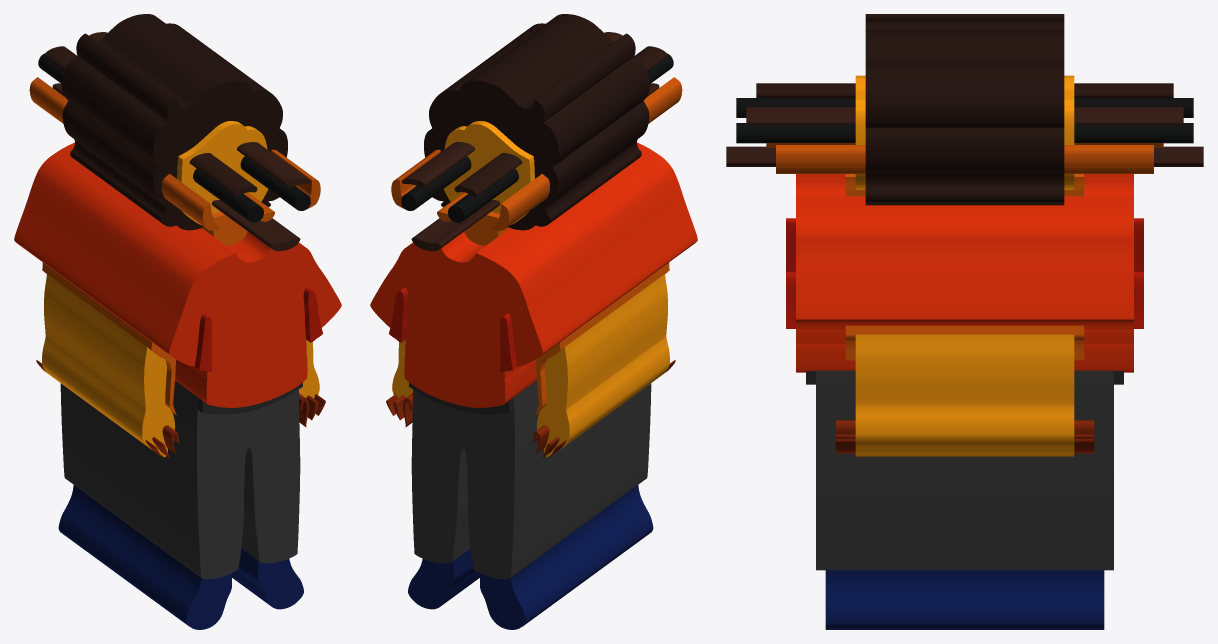
3 renders of one model, left to right at view 1: azimuth 30°, elevation 25°; view 2: azimuth 150°, elevation 25°; view 3: azimuth 270°, elevation 25°, orthographic. The views are drawn at different scales.
Parts seen in each view (by area): view 1: U+1F9CD_layer07_obj00, U+1F9CD_layer05_obj00, U+1F9CD_layer00_obj00, U+1F9CD_layer01_obj00, U+1F9CD_layer04_obj00, U+1F9CD_layer01_obj02, U+1F9CD_layer04_obj01, U+1F9CD_layer09_obj00, U+1F9CD_layer11_obj00, U+1F9CD_layer02_obj00, U+1F9CD_layer14_obj00, U+1F9CD_layer13_obj01 (+8 smaller); view 2: U+1F9CD_layer07_obj00, U+1F9CD_layer05_obj00, U+1F9CD_layer00_obj00, U+1F9CD_layer01_obj00, U+1F9CD_layer04_obj00, U+1F9CD_layer01_obj02, U+1F9CD_layer04_obj01, U+1F9CD_layer09_obj00, U+1F9CD_layer11_obj00, U+1F9CD_layer02_obj00, U+1F9CD_layer14_obj00, U+1F9CD_layer13_obj01 (+8 smaller); view 3: U+1F9CD_layer07_obj00, U+1F9CD_layer05_obj00, U+1F9CD_layer00_obj00, U+1F9CD_layer01_obj01, U+1F9CD_layer04_obj01, U+1F9CD_layer09_obj01, U+1F9CD_layer13_obj00, U+1F9CD_layer12_obj00, U+1F9CD_layer11_obj00, U+1F9CD_layer02_obj01, U+1F9CD_layer13_obj01, U+1F9CD_layer14_obj00 (+4 smaller).
Boxes of the visible parts, box(x1,y1,x2,y2) form: U+1F9CD_layer07_obj00: box(14, 142, 341, 407); U+1F9CD_layer05_obj00: box(60, 380, 300, 579); U+1F9CD_layer00_obj00: box(62, 14, 287, 230); U+1F9CD_layer01_obj00: box(42, 274, 175, 457); U+1F9CD_layer04_obj00: box(58, 485, 231, 629); U+1F9CD_layer01_obj02: box(177, 121, 268, 225); U+1F9CD_layer04_obj01: box(232, 549, 303, 609); U+1F9CD_layer09_obj00: box(29, 77, 220, 230); U+1F9CD_layer11_obj00: box(44, 46, 257, 196); U+1F9CD_layer02_obj00: box(42, 262, 176, 415); U+1F9CD_layer14_obj00: box(52, 83, 300, 251); U+1F9CD_layer13_obj01: box(38, 53, 263, 222); U+1F9CD_layer07_obj00: box(370, 142, 697, 407); U+1F9CD_layer05_obj00: box(411, 380, 651, 579); U+1F9CD_layer00_obj00: box(424, 14, 649, 230); U+1F9CD_layer01_obj00: box(536, 274, 669, 457); U+1F9CD_layer04_obj00: box(480, 485, 653, 629); U+1F9CD_layer01_obj02: box(443, 121, 534, 225); U+1F9CD_layer04_obj01: box(408, 549, 479, 609); U+1F9CD_layer09_obj00: box(491, 77, 682, 230); U+1F9CD_layer11_obj00: box(454, 46, 667, 196); U+1F9CD_layer02_obj00: box(535, 262, 669, 415); U+1F9CD_layer14_obj00: box(411, 83, 659, 251); U+1F9CD_layer13_obj01: box(448, 53, 673, 222); U+1F9CD_layer07_obj00: box(796, 174, 1133, 372); U+1F9CD_layer05_obj00: box(816, 370, 1113, 570); U+1F9CD_layer00_obj00: box(865, 14, 1064, 205); U+1F9CD_layer01_obj01: box(855, 334, 1074, 456); U+1F9CD_layer04_obj01: box(825, 570, 1104, 629); U+1F9CD_layer09_obj01: box(776, 145, 1153, 173); U+1F9CD_layer13_obj00: box(736, 123, 1193, 143); U+1F9CD_layer12_obj00: box(746, 107, 1183, 124); U+1F9CD_layer11_obj00: box(756, 83, 1173, 97); U+1F9CD_layer02_obj01: box(845, 325, 1084, 360); U+1F9CD_layer13_obj01: box(736, 98, 1193, 117); U+1F9CD_layer14_obj00: box(726, 146, 1203, 166).
Size of the model in its own units: 0.113 by 0.3176 by 0.24.
